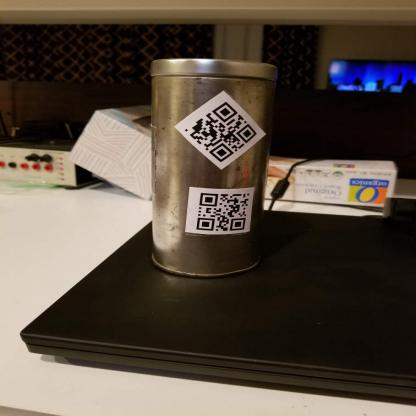qr: (180, 101, 264, 167), (190, 192, 257, 236)
